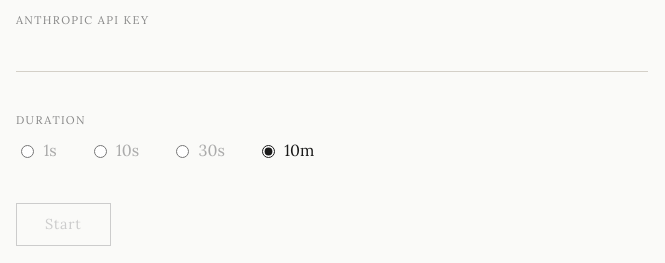
Scenario: Exercise › clears loading state after analysis completes
Type "sk-ant-test-key" into the password field labelled "Anthropic API Key".
click(332, 55); type("sk-ant-test-key")  # box [16,38,648,72]
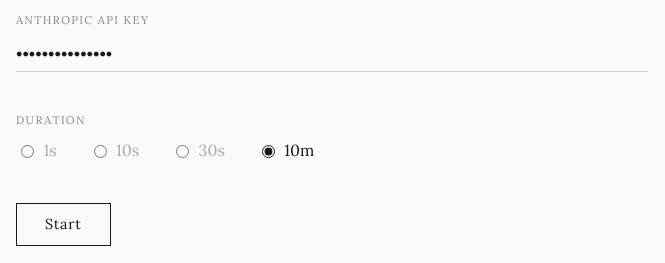
Click the button "Start".
click(63, 224)  # box [16,203,111,246]
Wait 600000 ms
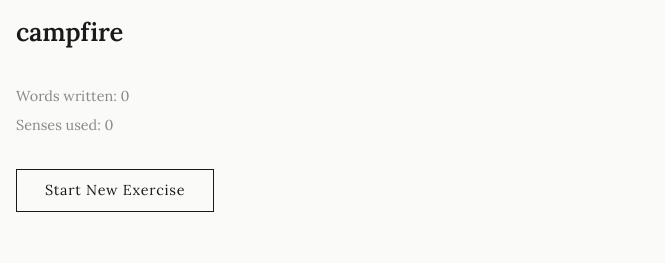
Result: the button "Start New Exercise" is shown at [16,169,214,212]
